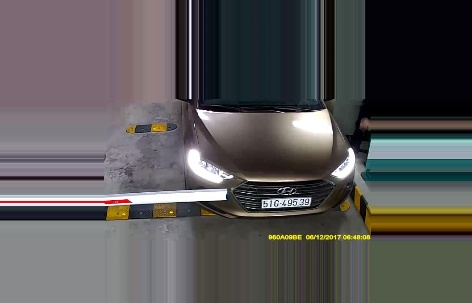plate: (259, 194, 312, 206)
